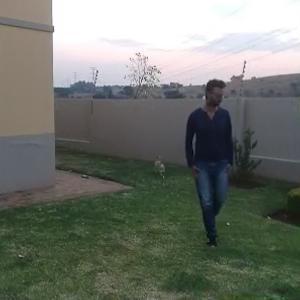follow: (181, 75, 226, 233)
